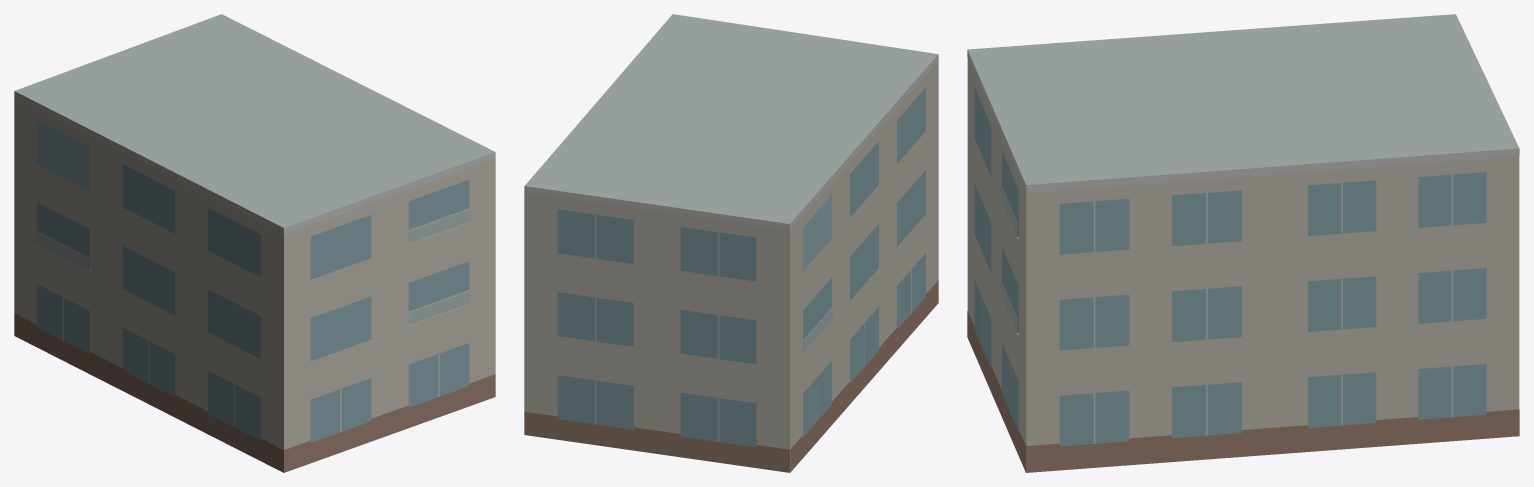
The model's file is survey-upis-32943387.glb.
3 renders of one model, left to right at view 1: azimuth 30°, elevation 25°; view 2: azimuth 150°, elevation 25°; view 3: azimuth 270°, elevation 25°, orthographic. The views are drawn at different scales.
Parts seen in each view (by area): view 1: survey-upis-32943387.tmp; view 2: survey-upis-32943387.tmp; view 3: survey-upis-32943387.tmp.
Part boxes in pixels (x1,y1,x2,y2): survey-upis-32943387.tmp: [14, 14, 495, 472]; survey-upis-32943387.tmp: [524, 14, 938, 472]; survey-upis-32943387.tmp: [967, 14, 1519, 472].
Size of the model in its own units: 11.68 by 9.15 by 15.92.
